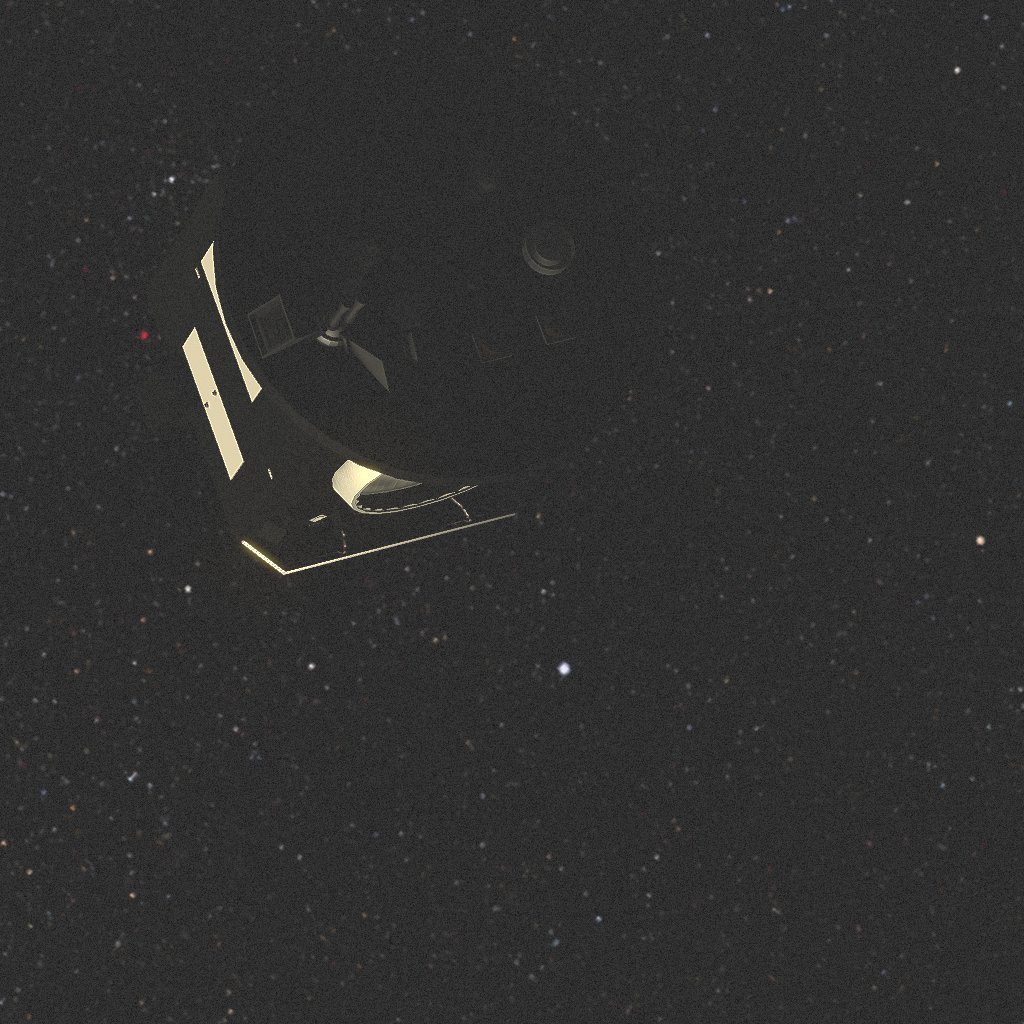proba_3_ocs: (135, 58, 657, 575)
